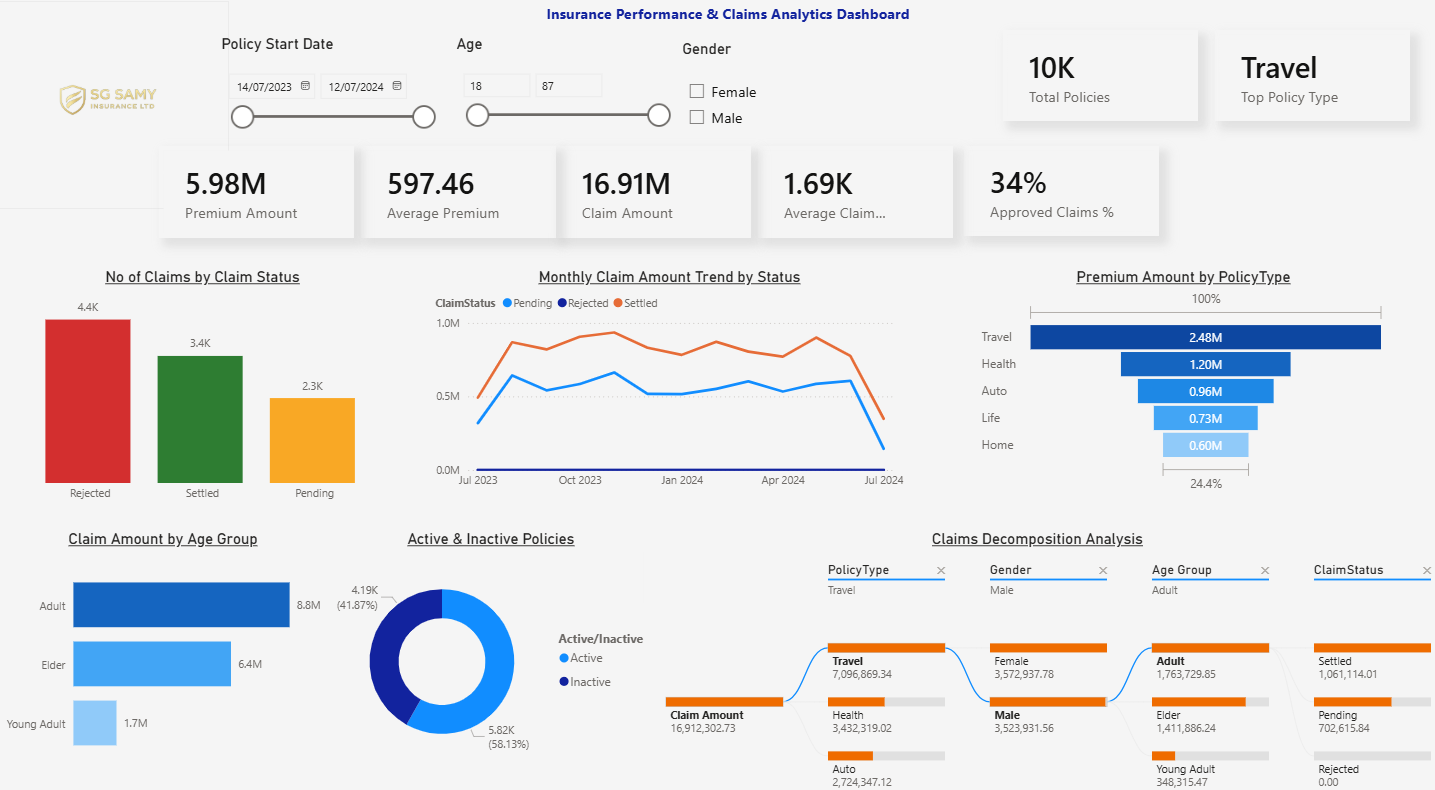

What the dashboard file says about the page in this screenshot:
{"tool":"powerbi","page":{"name":"Page 1","canvas":[1600,900],"ordinal":0},"visuals":[{"type":"cardVisual","fields":{"Data":["InsuranceData.Total Premium"]},"box":[248.3,97.6,203.3,133.3],"z":4},{"type":"cardVisual","fields":{"Data":["Sum(InsuranceData.ClaimAmount)"]},"box":[637,97.8,204.3,133],"z":6},{"type":"ribbonChart","title":"No of Claims by Claim Status","fields":{"Category":["InsuranceData.ClaimStatus"],"Y":["CountNonNull(InsuranceData.ClaimStatus)"]},"box":[0,248.3,476.7,301.7],"z":7},{"type":"clusteredBarChart","title":"Premium Amount by PolicyType","fields":{"Category":["InsuranceData.PolicyType"],"Y":["Sum(InsuranceData.PremiumAmount)"]},"box":[476.7,248.3,470,301.7],"z":8},{"type":"lineChart","title":"Claim Amount by Age Group","fields":{"Category":["InsuranceData.Age Group"],"Y":["Sum(InsuranceData.ClaimAmount)"]},"box":[52.1,568.1,480.9,273.4],"z":9},{"type":"donutChart","title":"Active & Inactive Policies","fields":{"Category":["InsuranceData.Active/Inactive"],"Y":["CountNonNull(InsuranceData.Active/Inactive)"]},"box":[946.7,248.3,413.3,283.3],"z":10},{"type":"cardVisual","fields":{"Data":["InsuranceData.Average Premium"]},"box":[442.7,97.8,203.2,133],"z":13},{"type":"cardVisual","fields":{"Data":["InsuranceData.Average Claim Amount"]},"box":[832.3,97.8,221.3,133],"z":14},{"type":"cardVisual","fields":{"Data":["InsuranceData.Approved Claims %"]},"box":[1044.7,96.2,217,136.2],"z":15},{"type":"slicer","fields":{"Values":["InsuranceData.PolicyStartDate"]},"box":[290,1.7,283.3,95],"z":16},{"type":"slicer","fields":{"Values":["InsuranceData.Gender"]},"box":[591.7,0,153.3,96.7],"z":17},{"type":"pivotTable","title":"Coverage Amount","fields":{"Rows":["InsuranceData.PolicyType"],"Columns":["InsuranceData.ClaimStatus"],"Values":["Sum(InsuranceData.CoverageAmount)"]},"box":[996.8,568.1,436.2,234],"z":18},{"type":"image","box":[0,2.1,258.5,230.9],"z":19},{"type":"pieChart","fields":{"Category":["InsuranceData.PolicyType"],"Y":["InsuranceData.Claim Ratio %"]},"box":[497.9,568.1,462.8,246.8],"z":20}]}

Visuals, with their boxes in screenshot pixels (x1, y1, x2, y2), scaled from the page's 1600x900 canvas onto the 1435x790 screenshot:
cardVisual - InsuranceData.Total Premium: (left=223, top=86, right=405, bottom=203)
cardVisual - Sum(InsuranceData.ClaimAmount): (left=571, top=86, right=755, bottom=203)
"No of Claims by Claim Status" ribbonChart: (left=0, top=218, right=428, bottom=483)
"Premium Amount by PolicyType" clusteredBarChart: (left=428, top=218, right=849, bottom=483)
"Claim Amount by Age Group" lineChart: (left=47, top=499, right=478, bottom=739)
"Active & Inactive Policies" donutChart: (left=849, top=218, right=1220, bottom=467)
cardVisual - InsuranceData.Average Premium: (left=397, top=86, right=579, bottom=203)
cardVisual - InsuranceData.Average Claim Amount: (left=746, top=86, right=945, bottom=203)
cardVisual - InsuranceData.Approved Claims %: (left=937, top=84, right=1132, bottom=204)
slicer - InsuranceData.PolicyStartDate: (left=260, top=1, right=514, bottom=85)
slicer - InsuranceData.Gender: (left=531, top=0, right=668, bottom=85)
"Coverage Amount" pivotTable: (left=894, top=499, right=1285, bottom=704)
image: (left=0, top=2, right=232, bottom=205)
pieChart - InsuranceData.PolicyType x InsuranceData.Claim Ratio %: (left=447, top=499, right=862, bottom=715)
